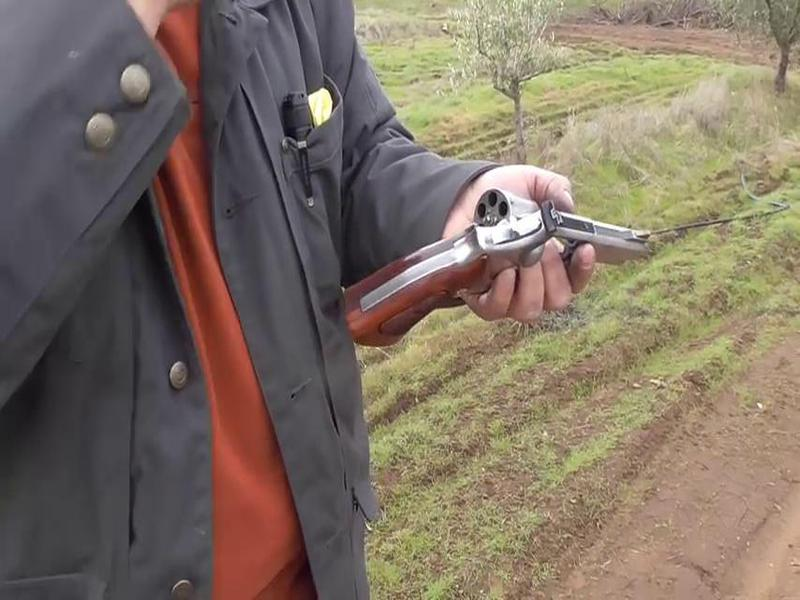Revolver: (317, 148, 685, 397)
